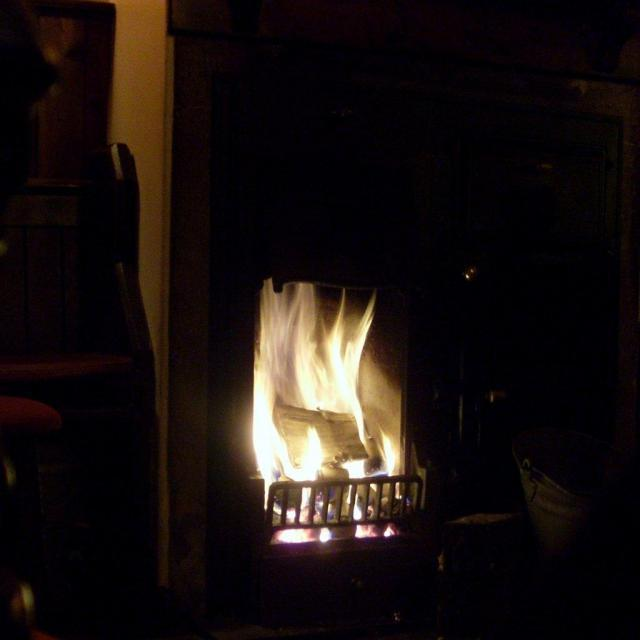fire: (253, 280, 374, 484)
